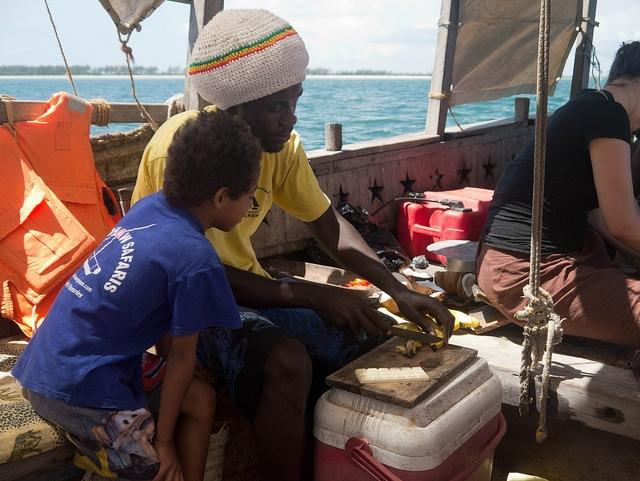banana: (403, 316, 444, 352), (392, 322, 423, 352), (448, 308, 480, 328), (404, 340, 418, 358), (394, 346, 406, 356)
